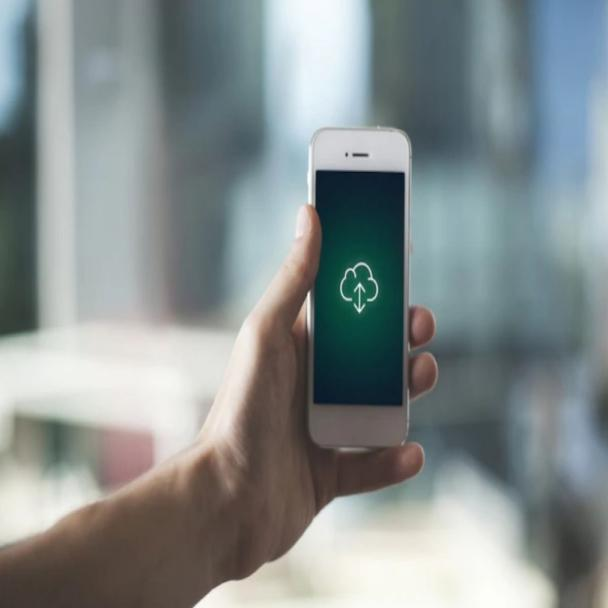Handphone: (307, 124, 412, 451)
